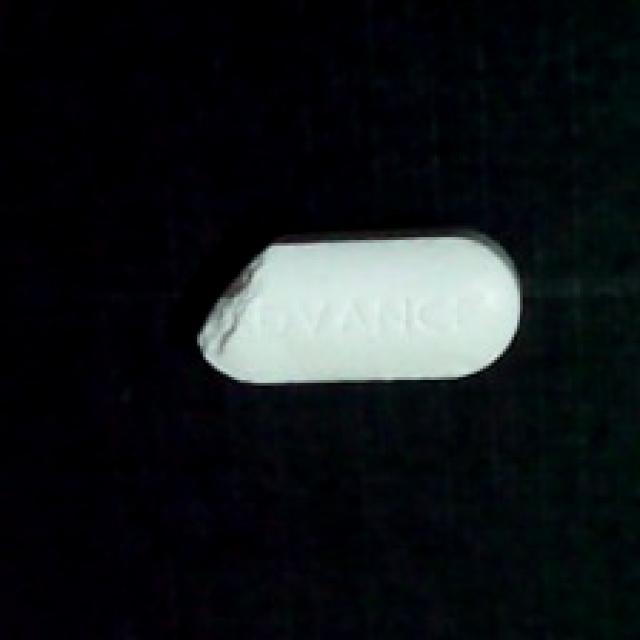defected: (189, 220, 526, 386)
